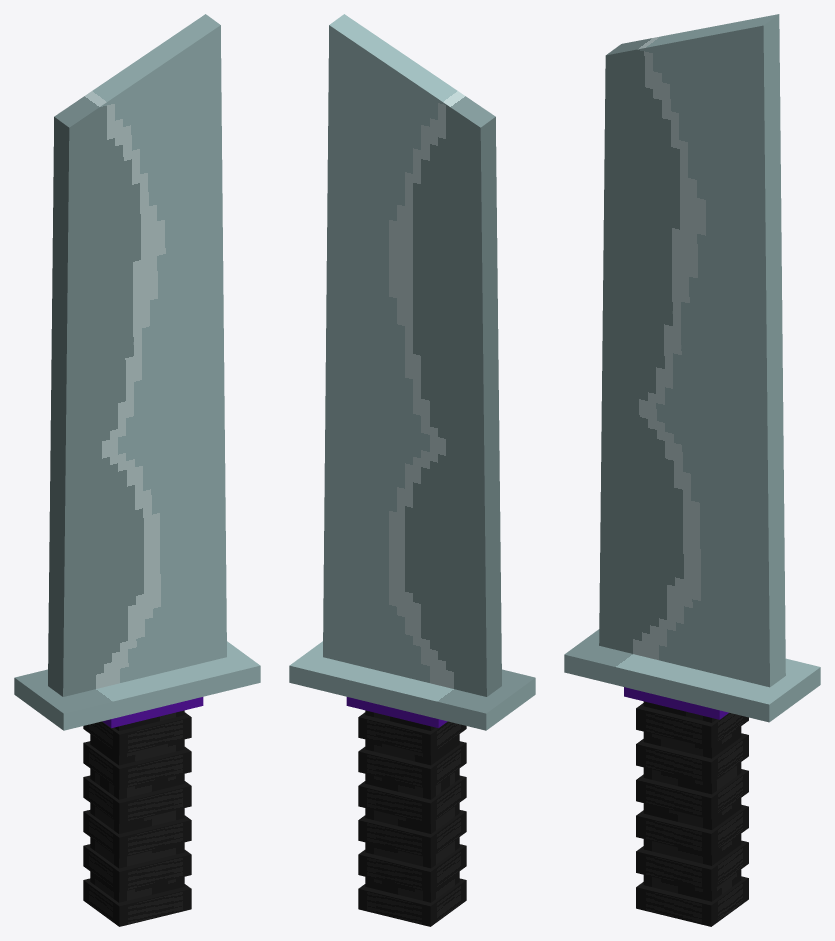
The model's file is sword3.gltf.
3 renders of one model, left to right at view 1: azimuth 30°, elevation 25°; view 2: azimuth 150°, elevation 25°; view 3: azimuth 330°, elevation 25°, orthographic. The views are drawn at different scales.
Visible parts, largest first — view 1: mesh (×10); view 2: mesh (×10); view 3: mesh (×10).
Part boxes in pixels (box(x1,y1,x2,y2)): mesh (×10): box(14, 14, 260, 926); mesh (×10): box(289, 14, 535, 926); mesh (×10): box(564, 14, 820, 926).
Size of the model in its own units: 0.375 by 1.58 by 0.1625.
Materials: 4 (4 with a texture image).
